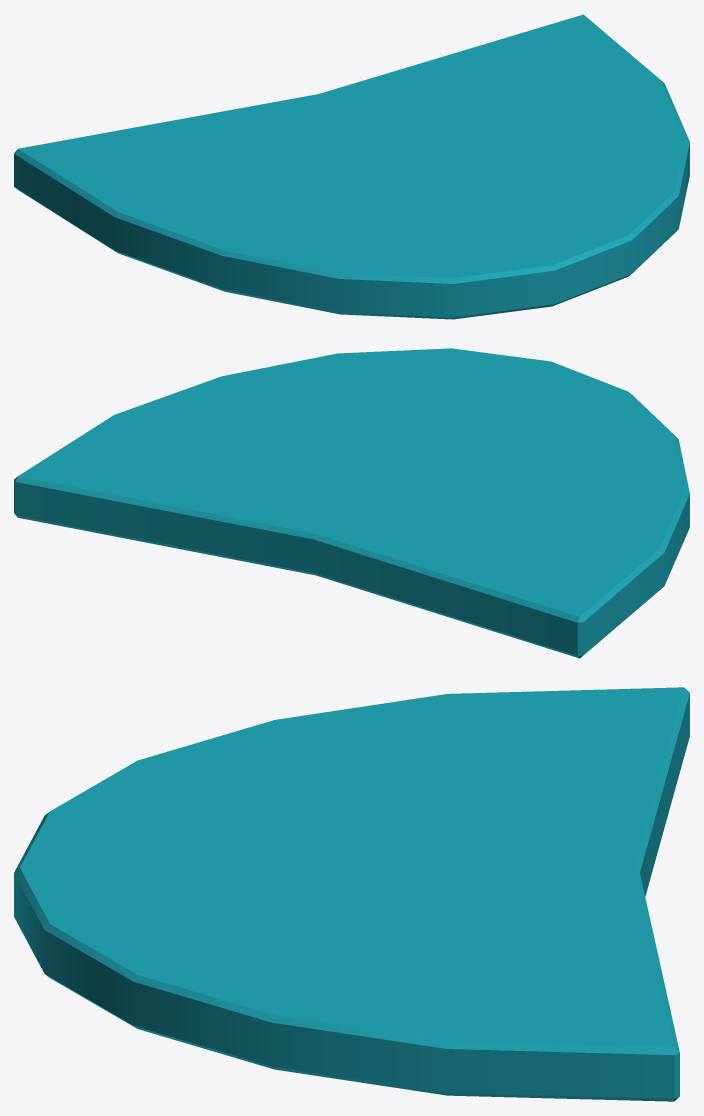
Rendered from Tank_Attach.fbx.
The picture shows the model from 3 angles, top to bottom: view 1: azimuth 30°, elevation 25°; view 2: azimuth 150°, elevation 25°; view 3: azimuth 270°, elevation 25°; orthographic projection. The views are drawn at different scales.
Parts seen in each view (by area): view 1: Tank_Attach; view 2: Tank_Attach; view 3: Tank_Attach.
Part boxes in pixels (x1,y1,x2,y2): Tank_Attach: (14, 14, 689, 319); Tank_Attach: (14, 348, 689, 658); Tank_Attach: (14, 687, 689, 1101).
Size of the model in its own units: 2.29 by 0.1584 by 1.79.
